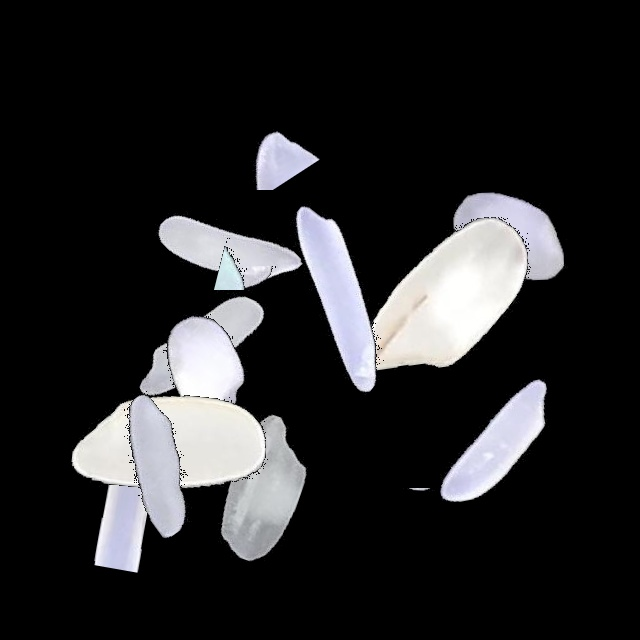Broken: (43, 359, 215, 609), (130, 73, 380, 190), (149, 196, 399, 290), (132, 266, 382, 358), (305, 488, 555, 567)
Full: (104, 122, 354, 372), (77, 222, 327, 472), (370, 317, 620, 567), (80, 244, 330, 494), (139, 362, 389, 612), (384, 110, 634, 360), (320, 168, 570, 418), (211, 170, 461, 420), (43, 318, 293, 568), (29, 340, 279, 590)
